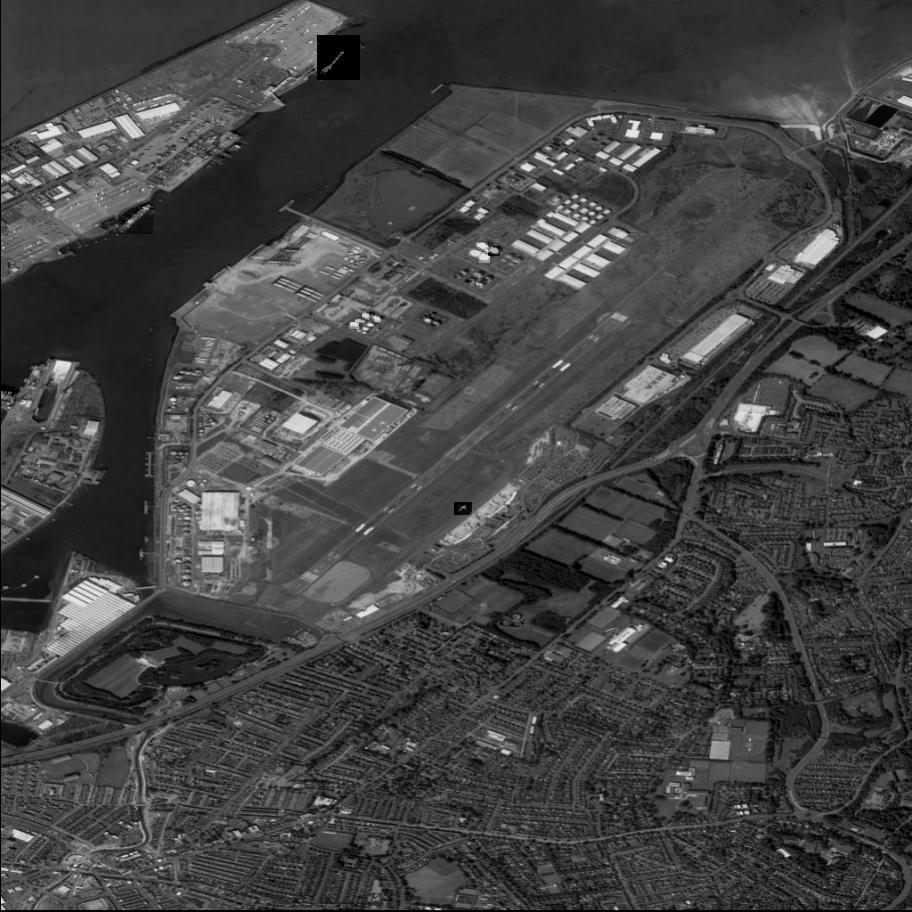plane: (454, 501, 472, 518)
ship: (316, 33, 361, 82), (119, 202, 153, 235)
storage-tank: (479, 252, 491, 263), (488, 246, 500, 256), (469, 249, 482, 258), (477, 242, 488, 251), (363, 311, 372, 321), (351, 323, 360, 330), (371, 315, 380, 321), (356, 318, 362, 326)
